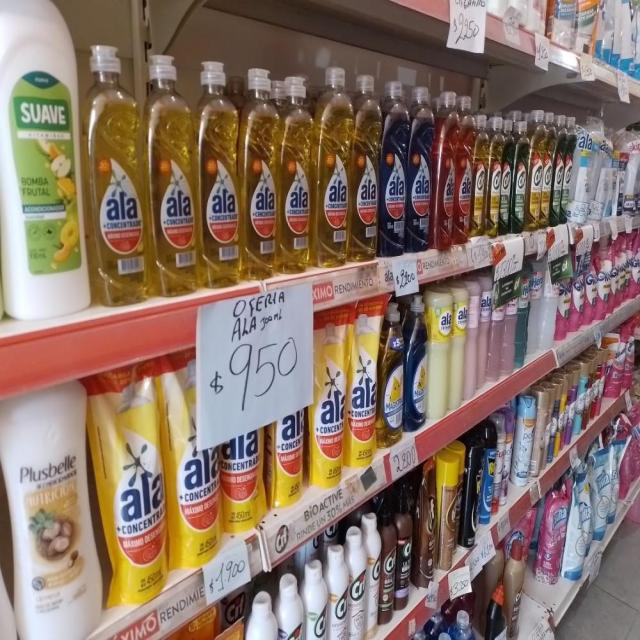ala_conc_amarillo: (85, 41, 146, 307), (149, 50, 197, 296), (200, 61, 240, 290), (241, 65, 278, 281), (315, 65, 349, 270), (278, 71, 312, 275), (350, 71, 380, 264)
ala_conc_azul: (380, 78, 407, 258), (408, 82, 432, 253)
ala_conc_rojo: (433, 88, 455, 250), (455, 93, 472, 244)
ala_crem_amarillo: (428, 283, 449, 422), (450, 278, 466, 409)
ala_crem_rosado: (466, 274, 477, 401), (478, 272, 489, 393), (490, 274, 502, 384)
ala_sachet_amarillo: (95, 362, 166, 607), (308, 303, 346, 488), (347, 298, 377, 468)
cif_conc_bot_amarilla: (473, 111, 488, 238), (528, 112, 543, 230), (488, 114, 501, 237), (543, 111, 552, 228)
cif_conc_botella_verde: (512, 115, 527, 233), (552, 113, 564, 226), (501, 115, 512, 235), (562, 115, 572, 224)
magistral_con_amarillo: (379, 301, 404, 447)
magistral_con_azul: (404, 294, 426, 432)
